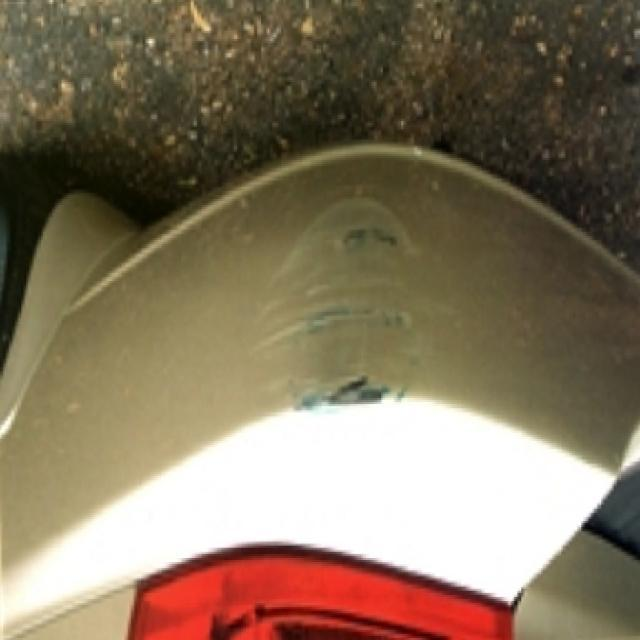scratch: (245, 181, 438, 436)
